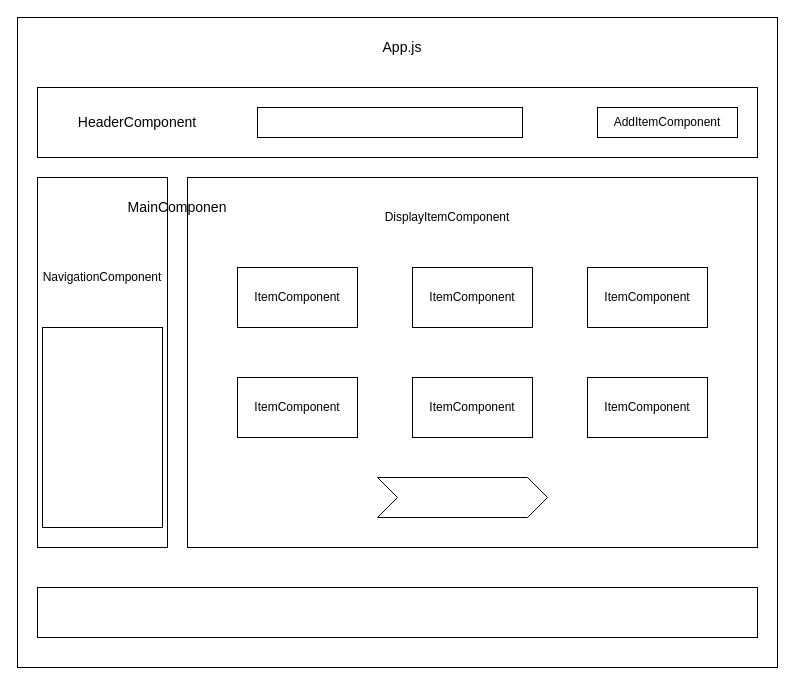
The diagram is 795 pixels wide and 685 high, and some of its shapes have lost their labels. Each missing label, with the centre of its shape:
CategoryComponent or FilterComponent: the point at 102,427
DetailsItemComponent: the point at 462,497
FooterComponent: the point at 397,612
SearchComponent: the point at 389,122
